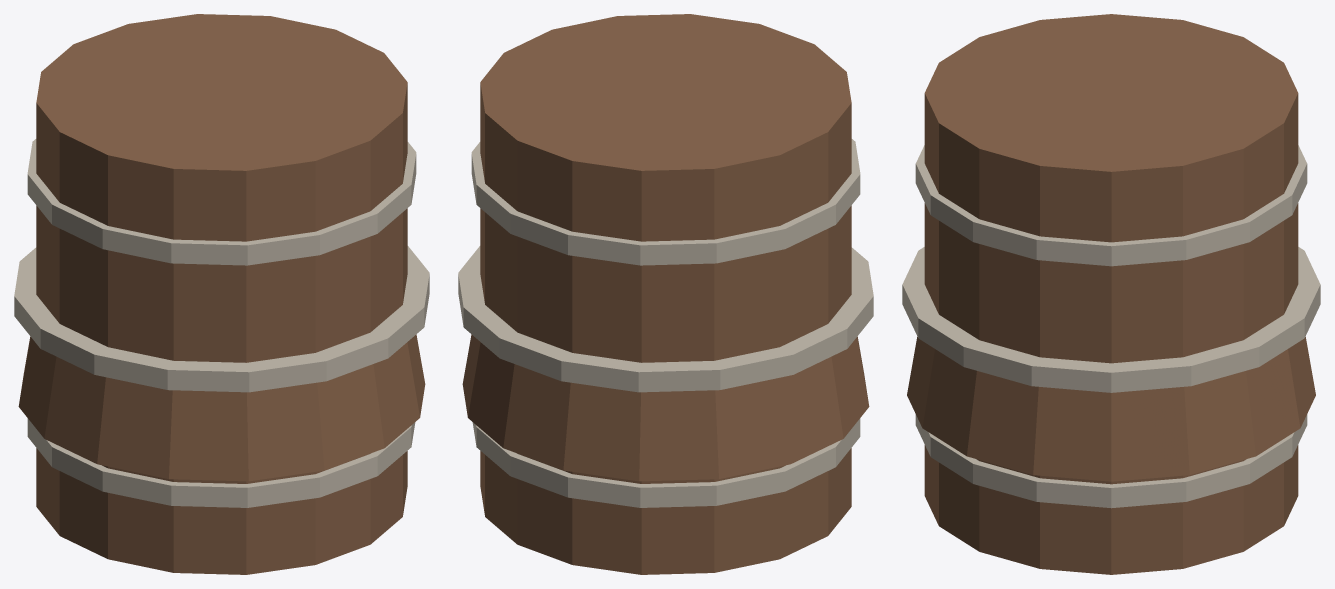
The model's file is Barrel.fbx.
The picture shows the model from 3 angles, left to right: view 1: azimuth 30°, elevation 25°; view 2: azimuth 150°, elevation 25°; view 3: azimuth 270°, elevation 25°; orthographic projection.
Visible parts, largest first — view 1: Barrel; view 2: Barrel; view 3: Barrel.
Part boxes in pixels (box(x1,y1,x2,y2)): Barrel: box(14, 14, 429, 574); Barrel: box(458, 14, 873, 574); Barrel: box(902, 14, 1320, 574).
Size of the model in its own units: 0.94 by 1 by 0.94.
